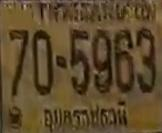0: (32, 29, 53, 96)
3: (136, 28, 156, 92)
5: (70, 29, 90, 94)
6: (114, 30, 134, 93)
7: (9, 29, 29, 95)
9: (92, 30, 113, 92)
UBN: (39, 100, 130, 132)
